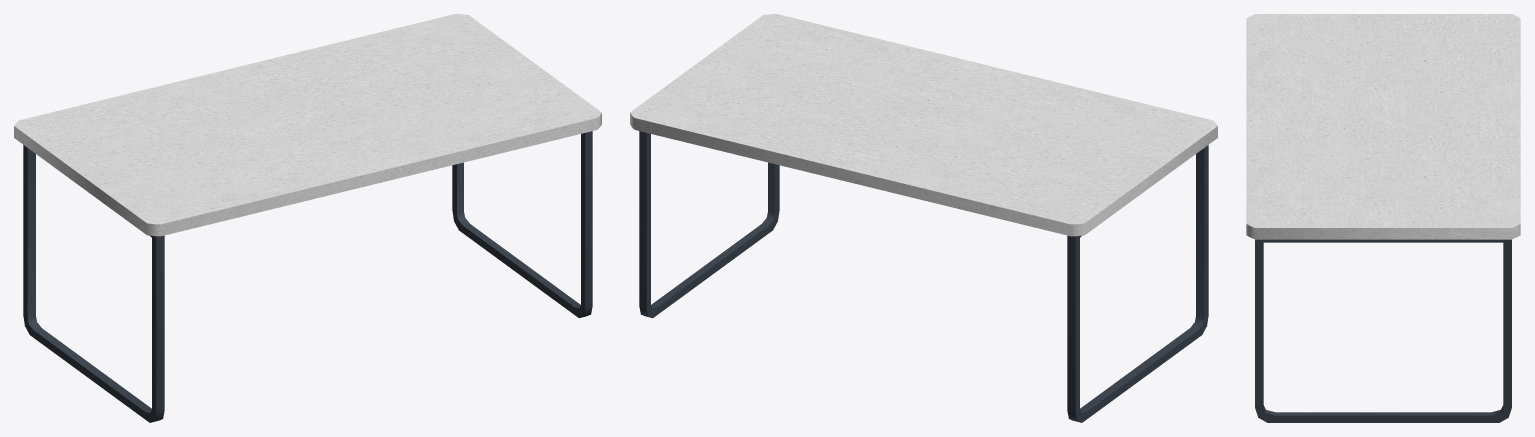
Rendered from OfficeTable01.fbx.
The picture shows the model from 3 angles, left to right: view 1: azimuth 30°, elevation 25°; view 2: azimuth 150°, elevation 25°; view 3: azimuth 270°, elevation 25°; orthographic projection. The views are drawn at different scales.
Parts seen in each view (by area): view 1: Desk01; view 2: Desk01; view 3: Desk01.
Boxes of the visible parts, bbox=[...] form: Desk01: bbox=[14, 14, 601, 422]; Desk01: bbox=[630, 14, 1217, 422]; Desk01: bbox=[1246, 14, 1520, 422].
Size of the model in its own units: 514 by 223 by 278.
